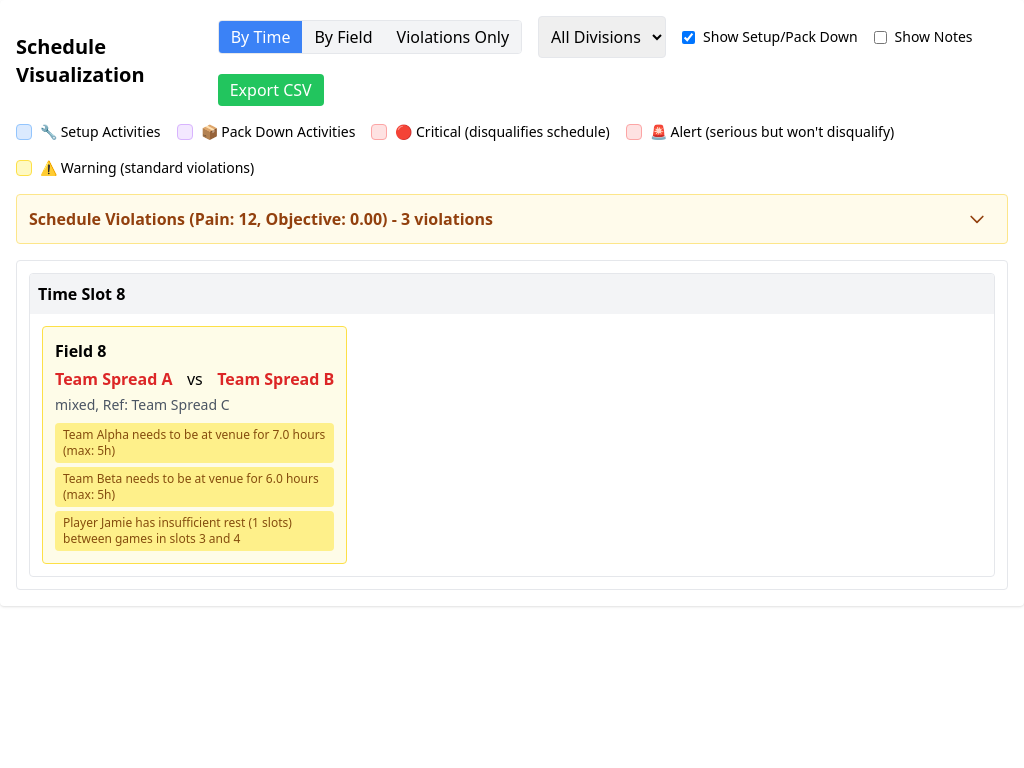
ScheduleVisualization › shows pain spread metrics and distribution grids in violations-only mode
Click the button "Violations Only" at (453, 37), box [385, 21, 521, 53]
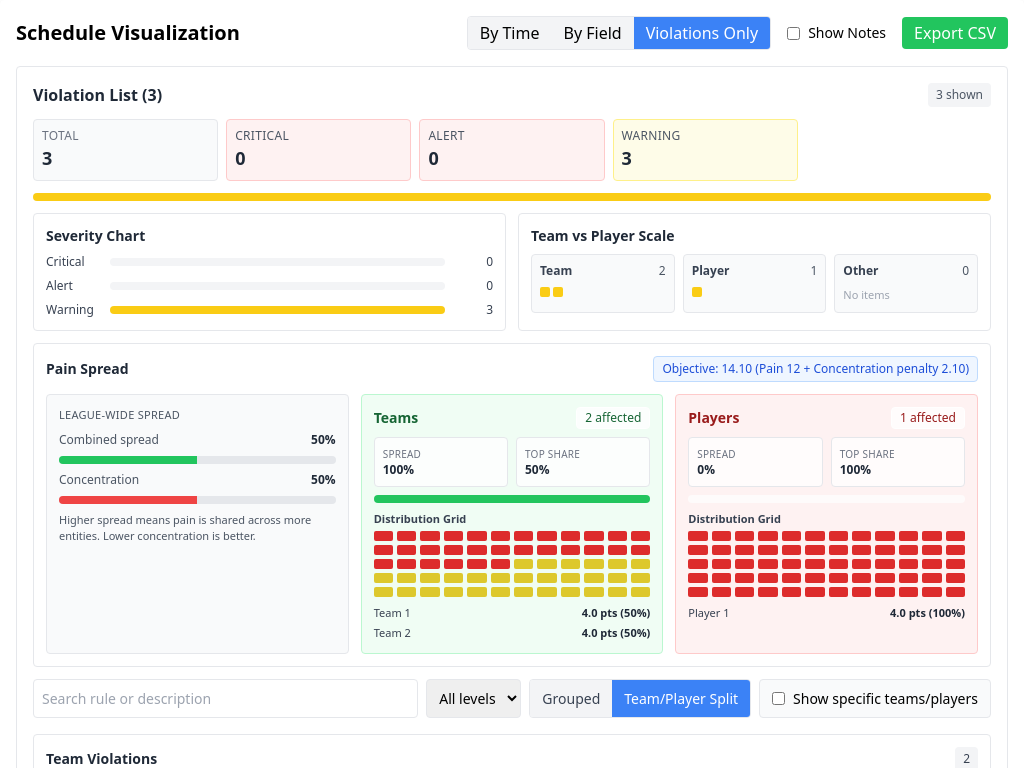
Check: the heading "Pain Spread" is shown, box [46, 359, 129, 379]
Check: the text "League-wide spread" is shown, box [59, 407, 180, 422]
Check: the 1st text "Distribution Grid" is shown, box [374, 511, 466, 526]
